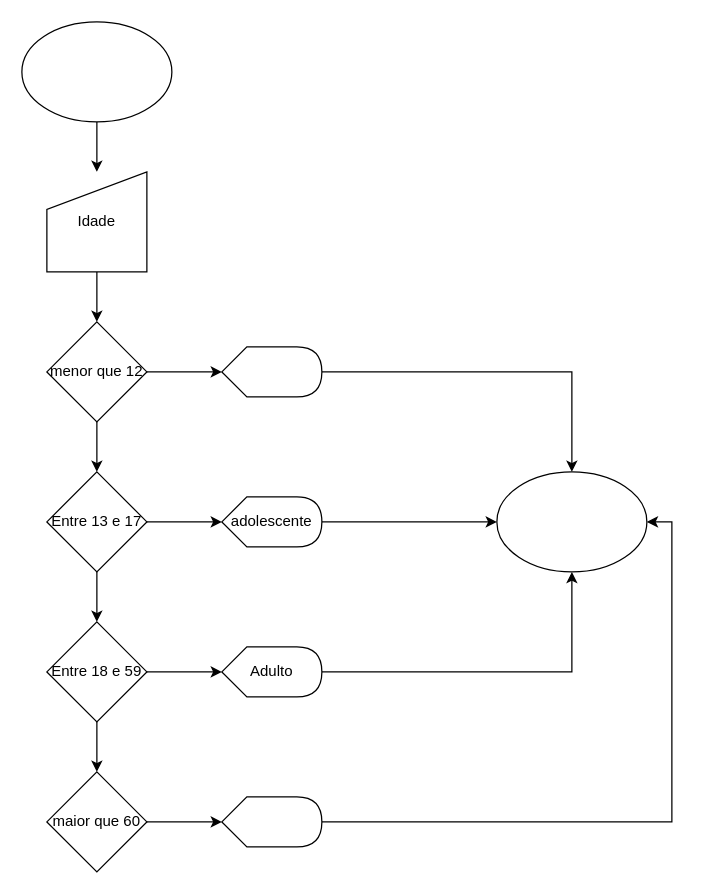
This 704x894 diagram has some shape labels left out. Each missing label, with the centre of its shape:
criança: the point at 271,371
Fim: the point at 571,521
Início: the point at 96,71
Velhinho: the point at 271,821
